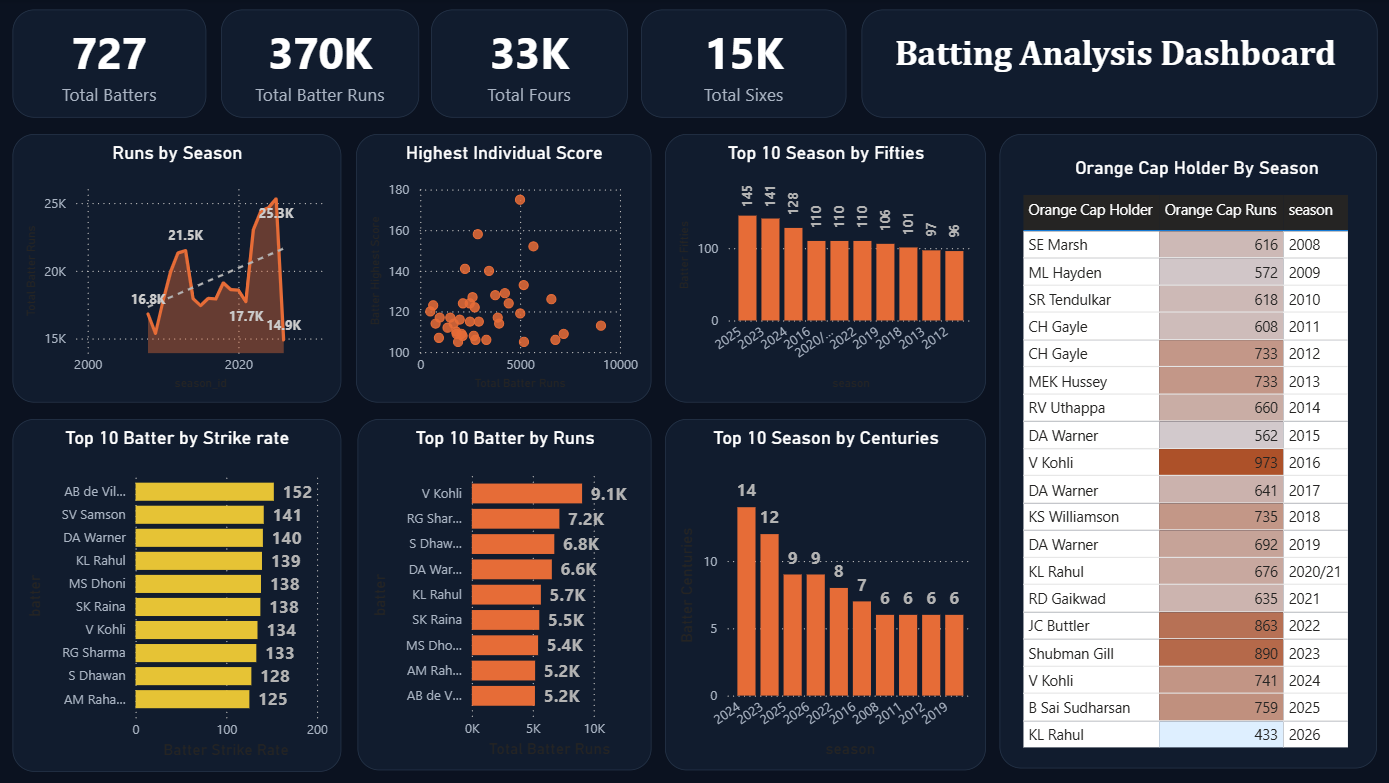

This screenshot's page, from the dashboard's own definition file:
{"tool":"powerbi","page":{"name":"03 - Batting Analysis","canvas":[1280,720],"ordinal":2},"visuals":[{"type":"card","fields":{"Values":["Measures Table.Total Batters"]},"box":[15.2,9.6,177.7,99.2],"z":0},{"type":"card","fields":{"Values":["Measures Table.Total Batter Runs"]},"box":[206.6,9.6,181.8,99.2],"z":1000},{"type":"card","fields":{"Values":["Measures Table.Total Fours"]},"box":[399.5,9.6,180.5,99.2],"z":2000},{"type":"card","fields":{"Values":["Measures Table.Total Sixes"]},"box":[592.4,9.6,188.7,99.2],"z":3000},{"type":"clusteredBarChart","title":"Top 10 Batter by Runs","fields":{"Y":["Measures Table.Total Batter Runs"],"Category":["Ball by Ball.batter"]},"box":[332,385.7,270,322.4],"z":4000},{"type":"clusteredBarChart","title":"Top 10 Batter by Strike rate","fields":{"Category":["Ball by Ball.batter"],"Y":["Batter Measures.Batter Strike Rate"]},"box":[15.2,385.7,301.7,323.7],"z":5000},{"type":"lineChart","title":"Runs by Season","fields":{"Category":["Matches.season_id"],"Y":["Measures Table.Total Batter Runs"]},"box":[15.2,124,301.7,246.6],"z":6000},{"type":"scatterChart","title":"Highest Individual Score","fields":{"Y":["Batter Measures.Batter Highest Score"],"Category":["Ball by Ball.batter"],"X":["Measures Table.Total Batter Runs"]},"box":[330.6,124,271.4,246.6],"z":7000},{"type":"textbox","box":[794.9,9.6,473.9,99.2],"z":8000},{"type":"tableEx","title":"Orange Cap Holder By Season","fields":{"Values":["Batter Measures.Orange Cap Holder","Batter Measures.Orange Cap Runs","Matches.season"]},"box":[921.6,124,346.5,582.8],"z":9000},{"type":"columnChart","title":"Top 10 Season by Centuries","fields":{"Category":["Matches.season"],"Y":["Batter Measures.Batter Centuries"]},"box":[614.4,385.7,294.8,322.4],"z":10000},{"type":"columnChart","title":"Top 10 Season by Fifties","fields":{"Category":["Matches.season"],"Y":["Batter Measures.Batter Fifties"]},"box":[614.4,124,294.8,246.6],"z":11000}]}

Visuals, with their boxes in screenshot pixels (x1, y1, x2, y2), scaled from the page's 1280x720 canvas onto the 1389x783 screenshot:
card - Measures Table.Total Batters: {"x1": 16, "y1": 10, "x2": 209, "y2": 118}
card - Measures Table.Total Batter Runs: {"x1": 224, "y1": 10, "x2": 421, "y2": 118}
card - Measures Table.Total Fours: {"x1": 434, "y1": 10, "x2": 629, "y2": 118}
card - Measures Table.Total Sixes: {"x1": 643, "y1": 10, "x2": 848, "y2": 118}
"Top 10 Batter by Runs" clusteredBarChart: {"x1": 360, "y1": 419, "x2": 653, "y2": 770}
"Top 10 Batter by Strike rate" clusteredBarChart: {"x1": 16, "y1": 419, "x2": 344, "y2": 771}
"Runs by Season" lineChart: {"x1": 16, "y1": 135, "x2": 344, "y2": 403}
"Highest Individual Score" scatterChart: {"x1": 359, "y1": 135, "x2": 653, "y2": 403}
textbox: {"x1": 863, "y1": 10, "x2": 1377, "y2": 118}
"Orange Cap Holder By Season" tableEx: {"x1": 1000, "y1": 135, "x2": 1376, "y2": 769}
"Top 10 Season by Centuries" columnChart: {"x1": 667, "y1": 419, "x2": 987, "y2": 770}
"Top 10 Season by Fifties" columnChart: {"x1": 667, "y1": 135, "x2": 987, "y2": 403}
